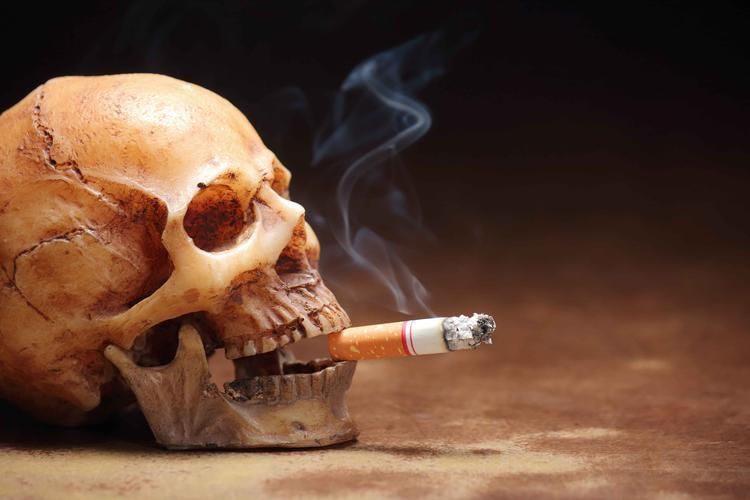smoke: (327, 313, 496, 362)
